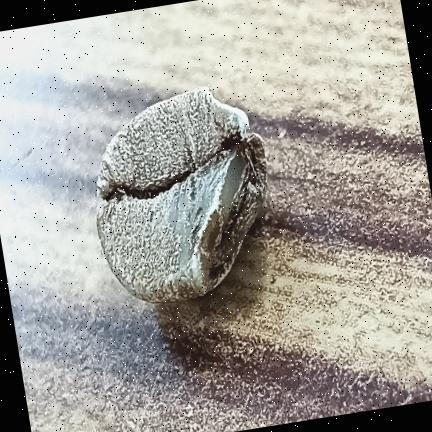broken: (97, 87, 267, 302)
